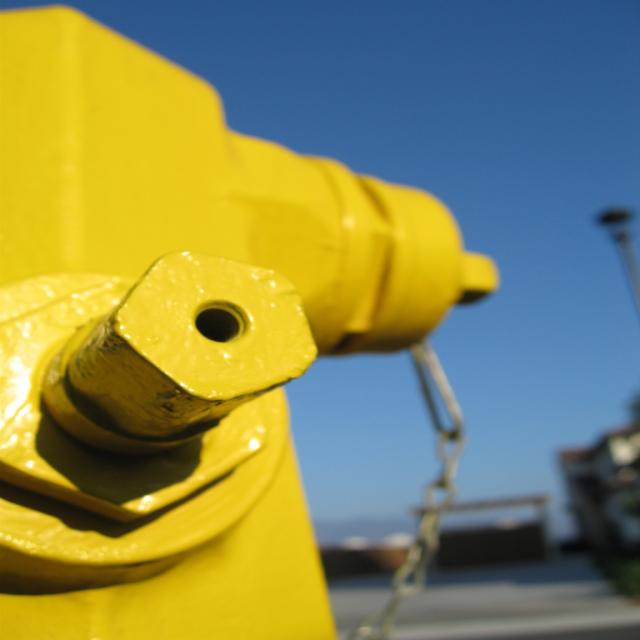fire_hydrant: (0, 4, 494, 639)
